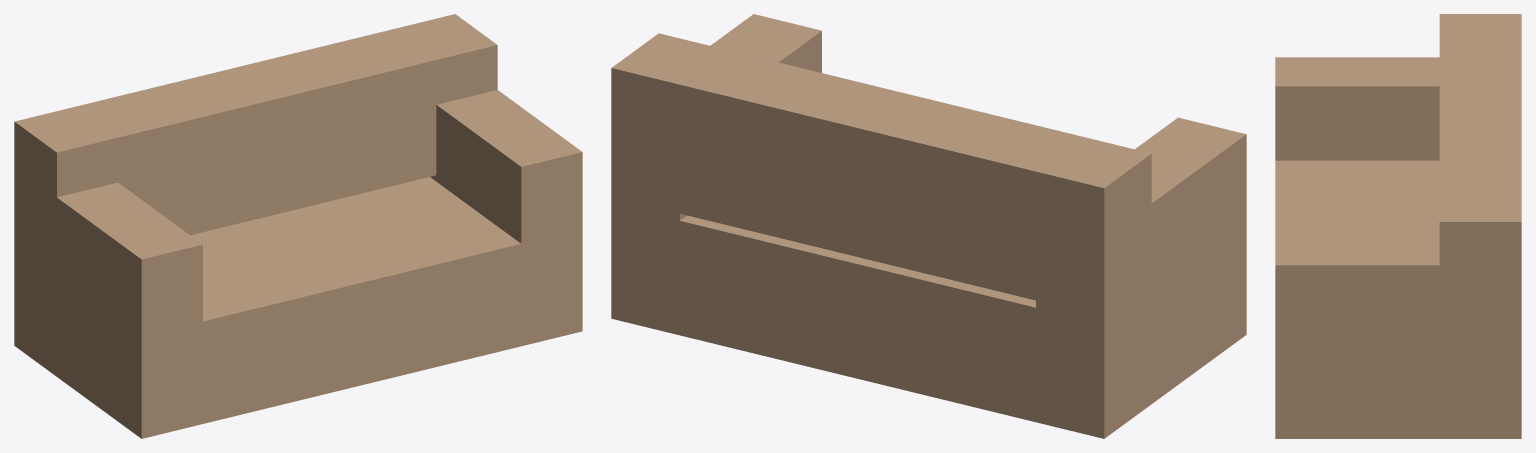
The model's file is sofa.glb.
The picture shows the model from 3 angles, left to right: view 1: azimuth 30°, elevation 25°; view 2: azimuth 150°, elevation 25°; view 3: azimuth 270°, elevation 25°; orthographic projection. The views are drawn at different scales.
Visible parts, largest first — view 1: mesh_0, mesh_1, mesh_2, mesh_3; view 2: mesh_1, mesh_0, mesh_2, mesh_3; view 3: mesh_0, mesh_1, mesh_3, mesh_2.
Part boxes in pixels (bbox=[...]): mesh_0: bbox=[14, 177, 582, 438]; mesh_1: bbox=[14, 14, 497, 267]; mesh_2: bbox=[14, 168, 202, 336]; mesh_3: bbox=[430, 90, 582, 243]; mesh_1: bbox=[611, 33, 1151, 316]; mesh_0: bbox=[611, 204, 1246, 438]; mesh_2: bbox=[1036, 117, 1246, 324]; mesh_3: bbox=[611, 14, 821, 220]; mesh_0: bbox=[1275, 160, 1521, 438]; mesh_1: bbox=[1439, 14, 1521, 333]; mesh_3: bbox=[1275, 236, 1521, 339]; mesh_2: bbox=[1275, 57, 1439, 160].
Size of the model in its own units: 1.8 by 0.875 by 0.9.
